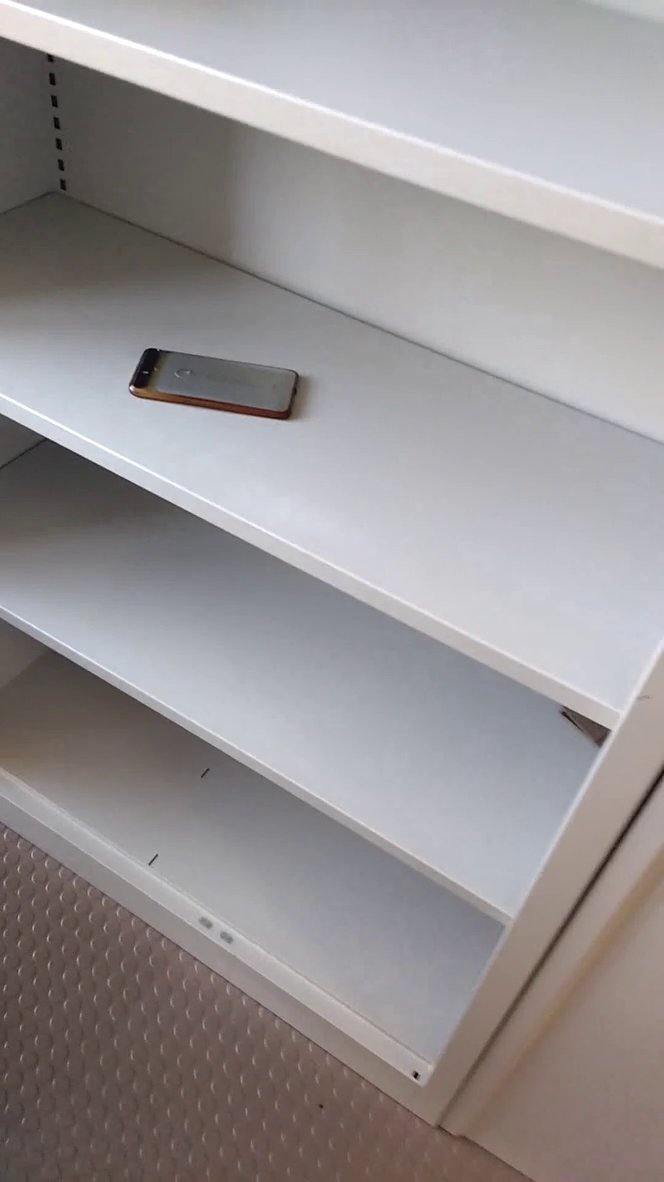phone: (123, 341, 314, 433)
